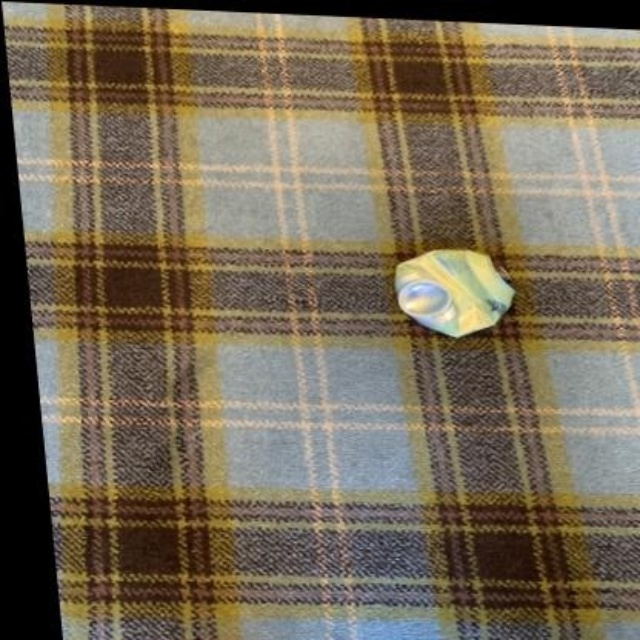trash: (394, 249, 514, 335)
